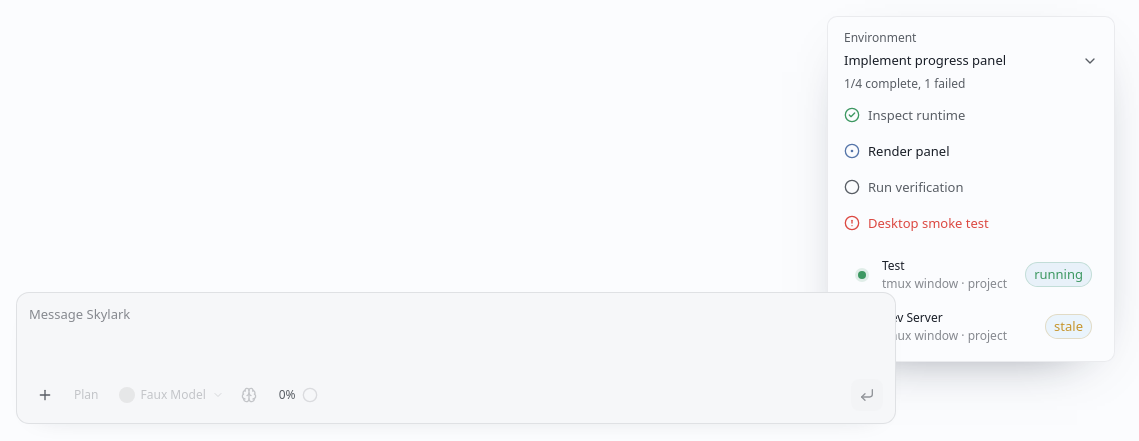
Scenario: ChatWorkbench › renders a header-controlled read-only environment status panel
expect the text "Implement progress panel" is shown: met, box [844,51,1006,69]
expect the text "Inspect runtime" is shown: met, box [868,106,965,124]
Click the button with aria-label "Collapse environment status" at x=971, y=61, box [844,29,1098,92]
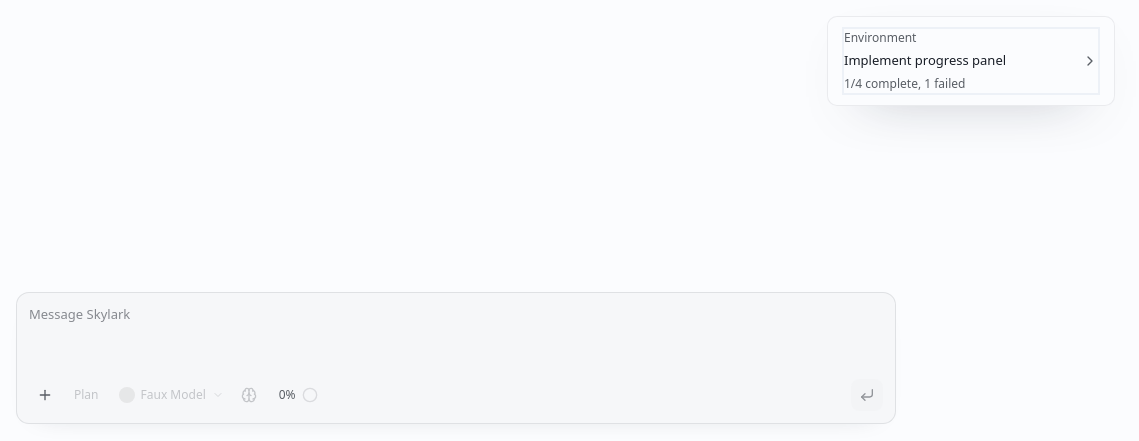
expect the text "Inspect runtime" is gone: met
expect the button with aria-label "Expand environment status" is collapsed: met, box [844,29,1098,92]
